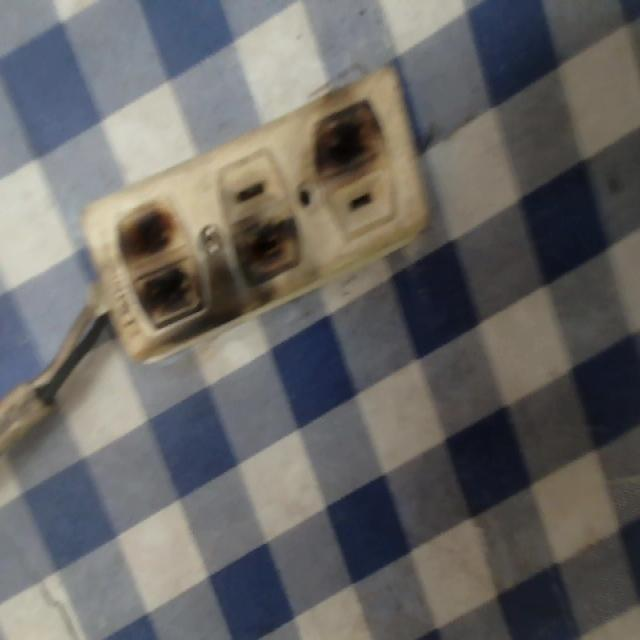-: (114, 196, 204, 323), (308, 93, 388, 188), (232, 208, 302, 288)
